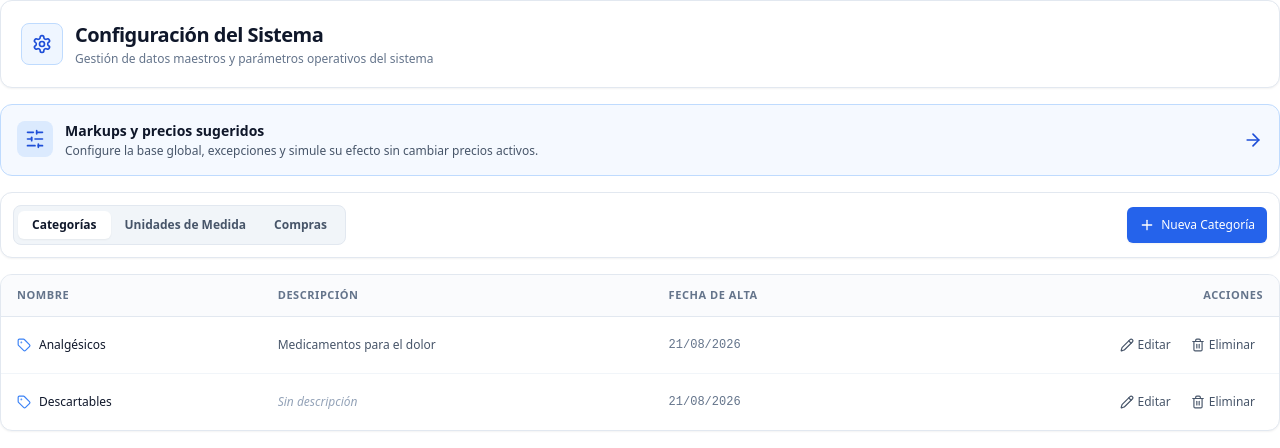
Test: SettingsPage master catalog management › Tabs and Navigation › switches to Units tab and displays unit records with formatted symbol badge
Expected: the heading "Configuración del Sistema" is shown, [75, 21, 323, 48]
Step 1. Click the tab "Unidades de Medida" → (185, 225), box [110, 211, 260, 239]
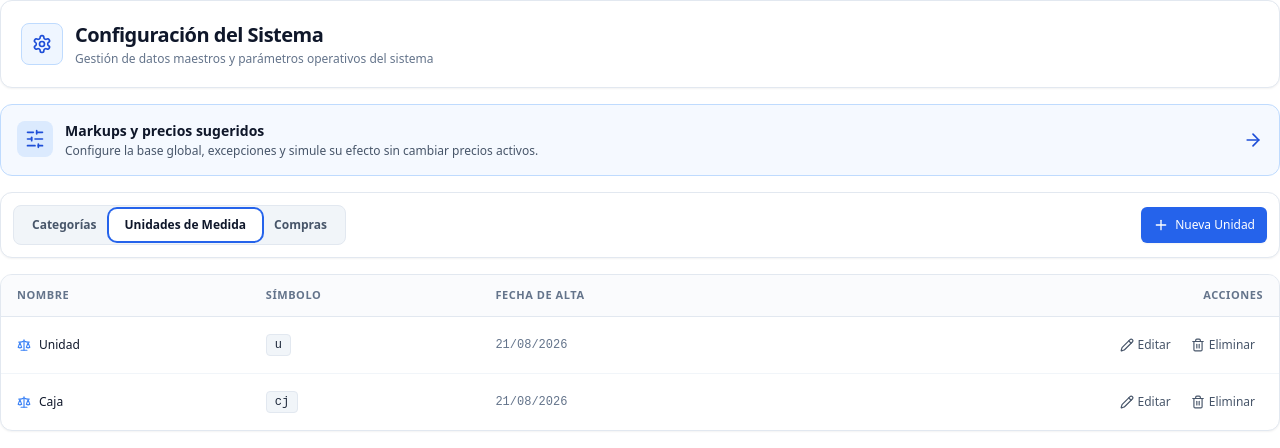
Expected: the text "Unidad" is shown, [39, 336, 80, 352]
Expected: the text "u" is shown, [266, 334, 291, 356]
Expected: the text "Caja" is shown, [39, 394, 63, 410]
